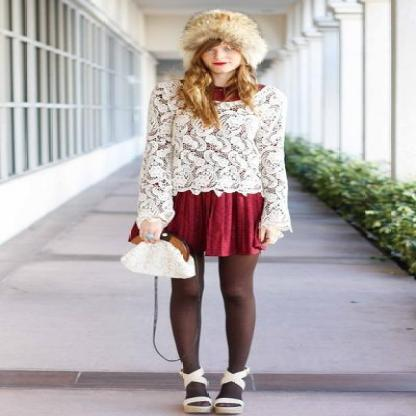bag: (122, 225, 204, 278)
hat: (182, 10, 267, 68)
jacket: (133, 75, 291, 240)
shoe: (180, 368, 248, 416)
skirt: (162, 190, 268, 261)
